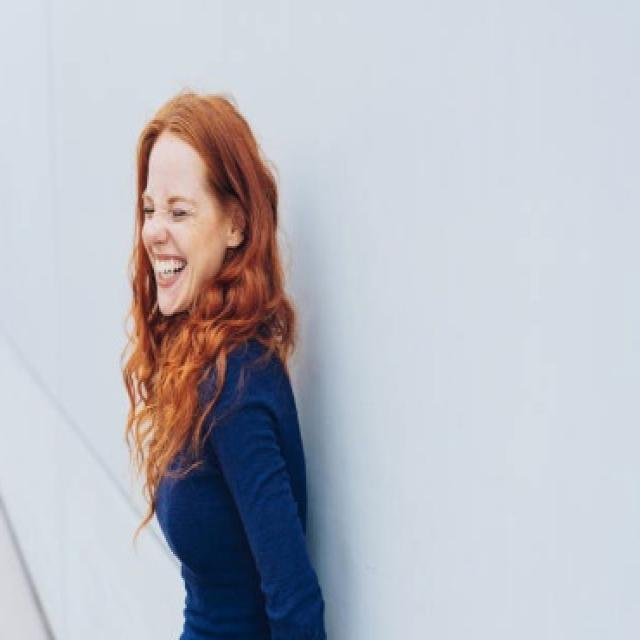adult: (122, 78, 328, 640)
